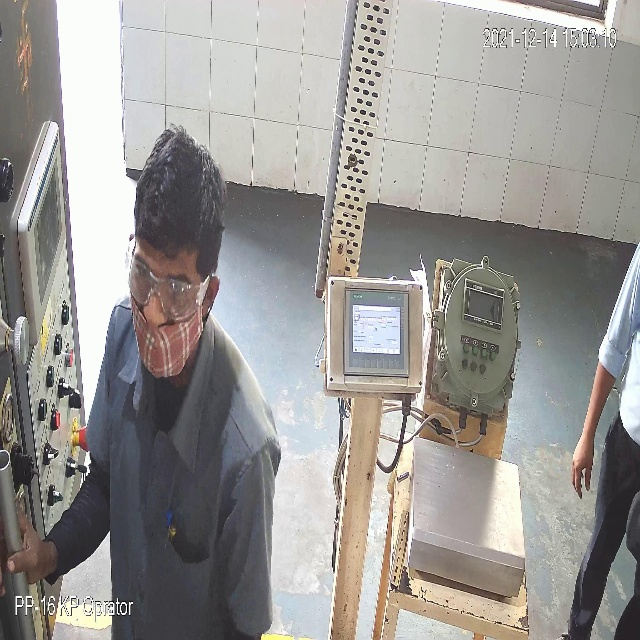Gafas: (121, 251, 205, 318)
